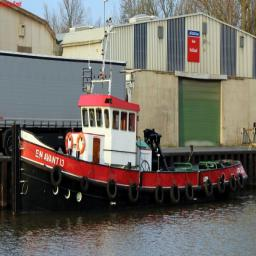tugboat: (6, 67, 251, 235)
